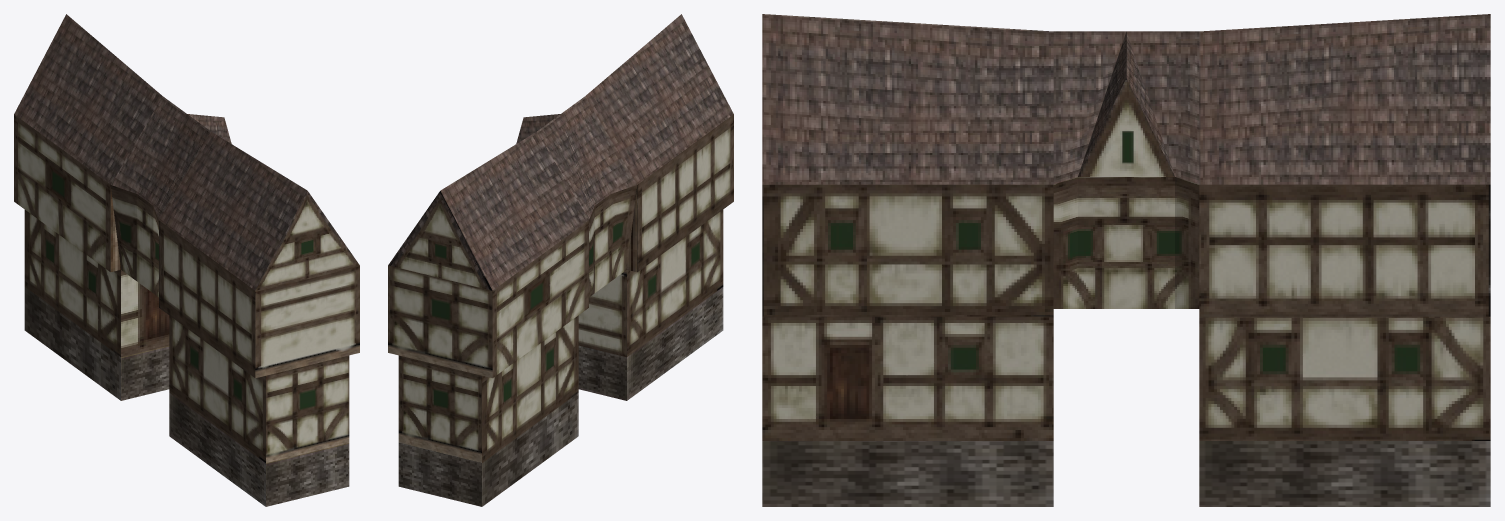
The model's file is LowPoly_Tomedelic_MedievalHouse_05.fbx.
3 renders of one model, left to right at view 1: azimuth 30°, elevation 25°; view 2: azimuth 150°, elevation 25°; view 3: azimuth 270°, elevation 25°, orthographic. The views are drawn at different scales.
Parts seen in each view (by area): view 1: Cube; view 2: Cube; view 3: Cube.
Part boxes in pixels (x1,y1,x2,y2): Cube: (14, 14, 359, 506); Cube: (388, 14, 733, 506); Cube: (762, 14, 1490, 506).
Bounding box in the file's own units: 250 × 700 × 1000.
